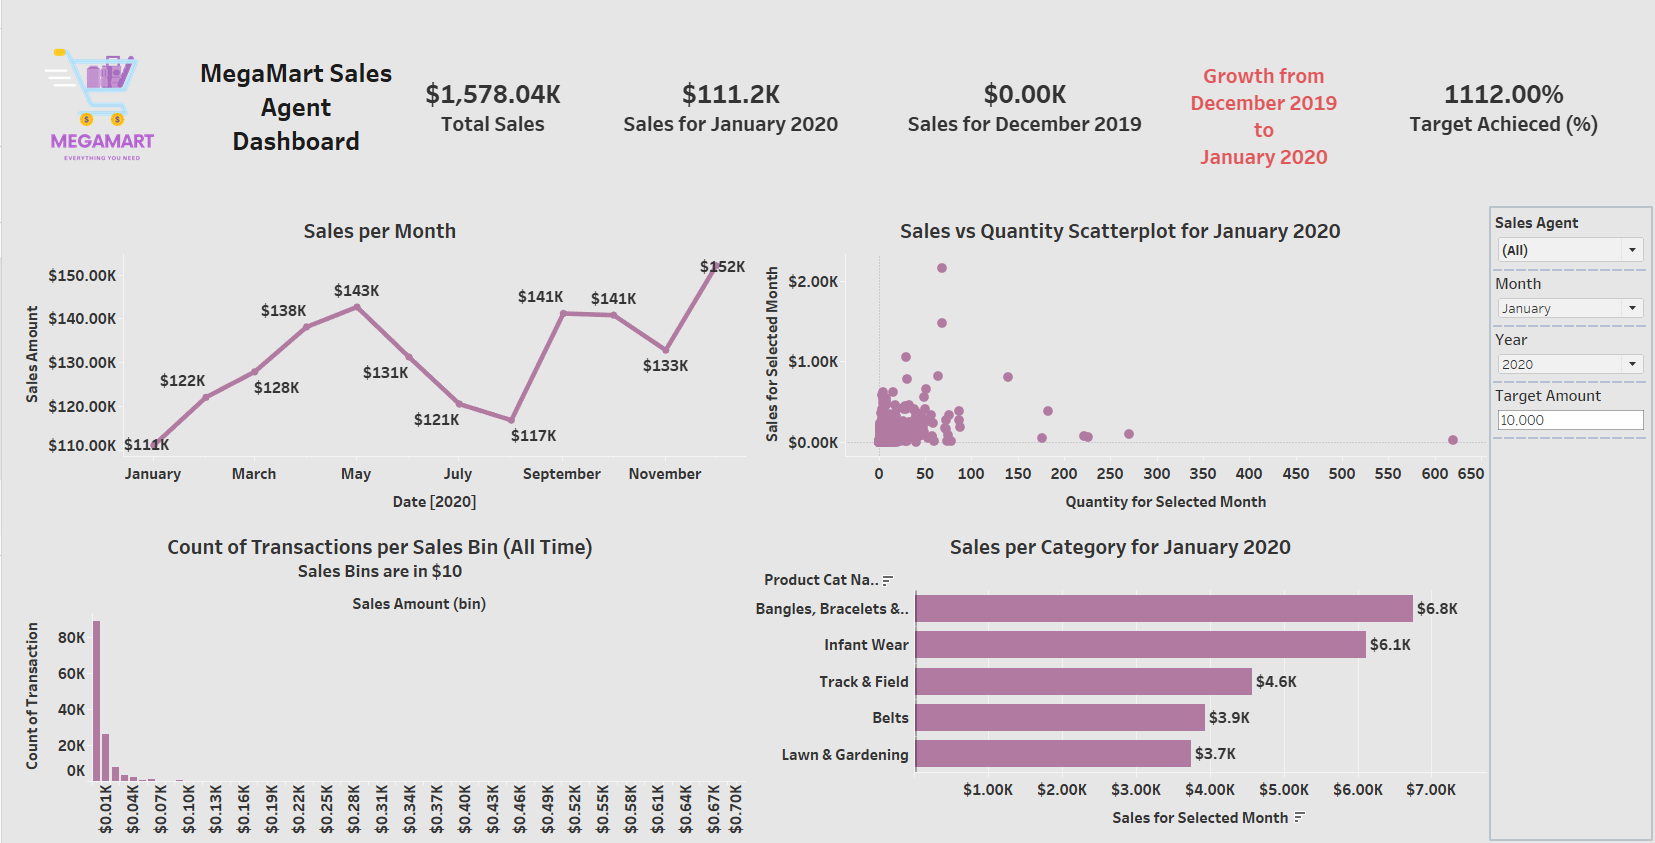

What the dashboard file says about the page in this screenshot:
{"tool":"tableau","page":{"name":"Dashboard","canvas":[1000,1000],"units":"permille","ordinal":0},"visuals":[{"type":"image","param":"E:/Programming/Felloship/Tableau/Mega Mart/001 MEGAMARTLOGO.png","box":[4.8,9.4,108.6,240.3]},{"type":"text","box":[113.5,9.4,127.9,240.3]},{"type":"worksheet","title":"Total Sales","mark":"Automatic","box":[241.4,9.4,109.8,240.3]},{"type":"worksheet","title":"Sales for Selected Month","mark":"Automatic","box":[351.2,9.4,177.2,240.3]},{"type":"worksheet","title":"Sales for Previous Month","mark":"Automatic","box":[528.5,9.4,177.2,240.3]},{"type":"worksheet","title":"Growth","mark":"Automatic","box":[705.7,9.4,112.2,240.3]},{"type":"worksheet","title":"Target Achieved","mark":"Automatic","box":[817.9,9.4,177.2,240.3]},{"type":"worksheet","title":"Sales per Month","mark":"Automatic","rows":["Sales_Amount"],"cols":["Date"],"box":[4.8,249.7,446.9,370.5]},{"type":"worksheet","title":"Sales vs Quantity Scatterplot","mark":"Automatic","rows":["Calculation_1061442169603780609"],"cols":["Sales for Selected Month (copy)_1061442169610498052"],"box":[451.7,249.7,446.9,370.5]},{"type":"filter","title":"Sales per Month","param":"[federated.0a3mvky17qn0641fizoj31vawlwm].[none:sales_person_id:nk]","box":[898.6,249.7,96.6,71.7]},{"type":"parameter","param":"[Parameters].[Parameter 1]","box":[898.6,321.4,96.6,65.8]},{"type":"parameter","param":"[Parameters].[Parameter 2]","box":[898.6,387.2,96.6,65.8]},{"type":"parameter","param":"[Parameters].[Parameter 3]","box":[898.6,453,96.6,65.8]},{"type":"worksheet","title":"Sales Bin Chart","mark":"Automatic","rows":["Calculation_1061442169613869061"],"cols":["Sales Amount (bin)"],"box":[4.8,620.1,446.9,370.4]},{"type":"worksheet","title":"Category Month Comparision","mark":"Automatic","rows":["product_cat_name"],"cols":["Calculation_1061442169603780609"],"box":[451.7,620.1,446.9,370.4]}]}

Visuals, with their boxes on the dashboard's canvas, which has no fixed pixel size, in thousandths of its width and height (x1, y1, x2, y2). These are canvas units, not pixel positions in the 1655x843 screenshot, which may show the page scaled, cropped or inside an application window:
image: [5,9,113,250]
text: [114,9,241,250]
"Total Sales" worksheet: [241,9,351,250]
"Sales for Selected Month" worksheet: [351,9,528,250]
"Sales for Previous Month" worksheet: [528,9,706,250]
"Growth" worksheet: [706,9,818,250]
"Target Achieved" worksheet: [818,9,995,250]
"Sales per Month" worksheet: [5,250,452,620]
"Sales vs Quantity Scatterplot" worksheet: [452,250,899,620]
"Sales per Month" filter: [899,250,995,321]
parameter: [899,321,995,387]
parameter: [899,387,995,453]
parameter: [899,453,995,519]
"Sales Bin Chart" worksheet: [5,620,452,990]
"Category Month Comparision" worksheet: [452,620,899,990]
